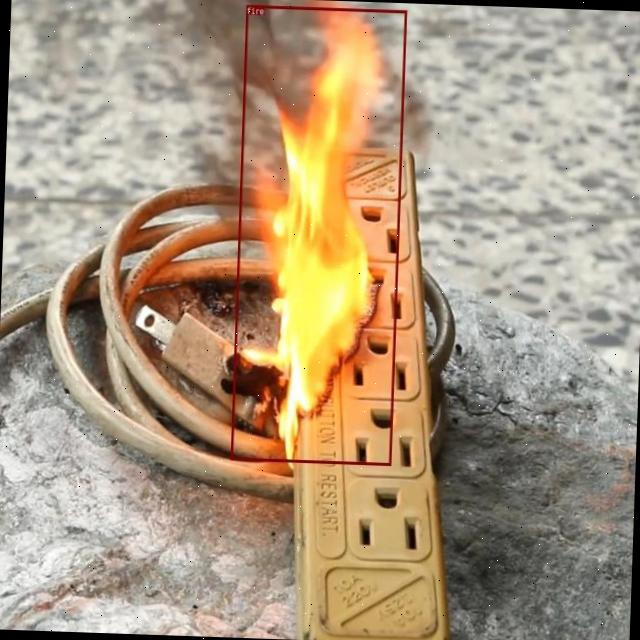fire: (230, 4, 406, 464)
